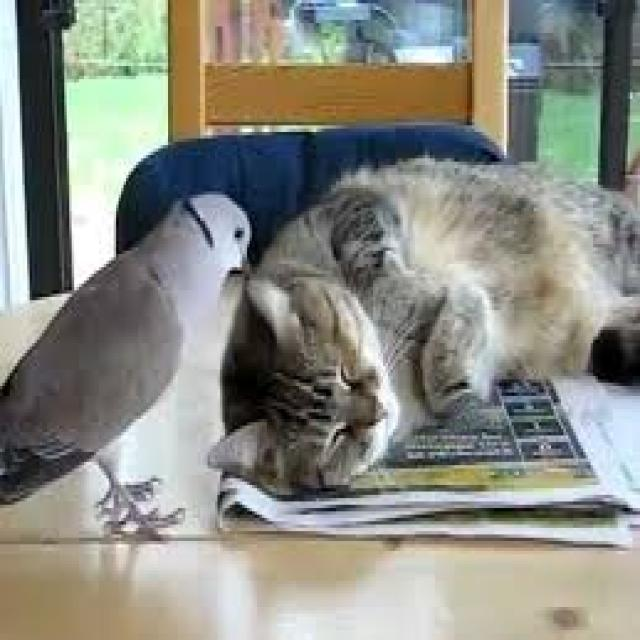pigeon: (0, 181, 264, 557)
